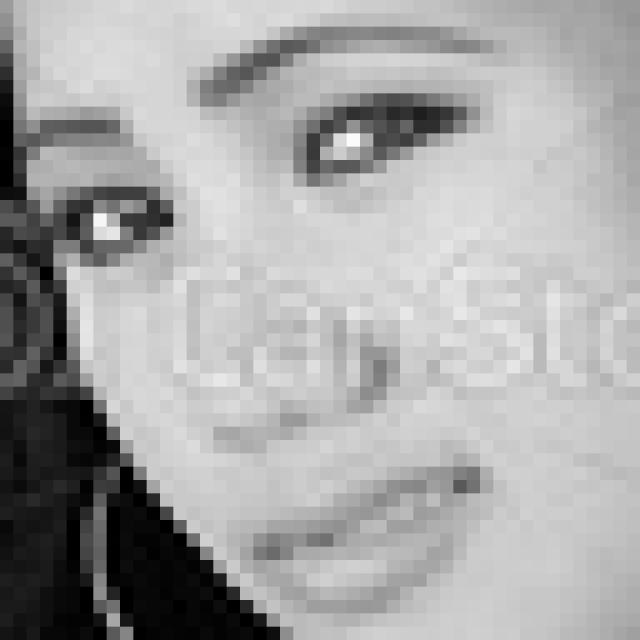disgust: (28, 21, 527, 629)
